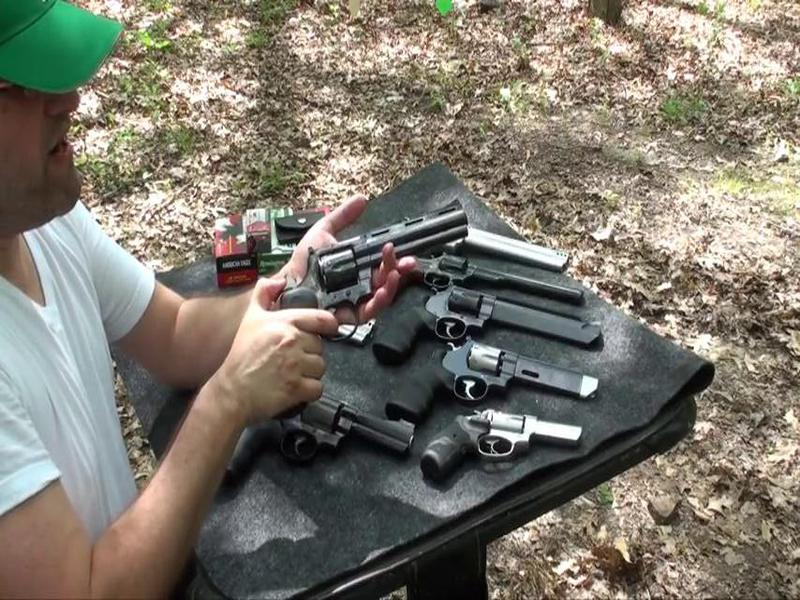Revolver: (273, 186, 473, 342)
